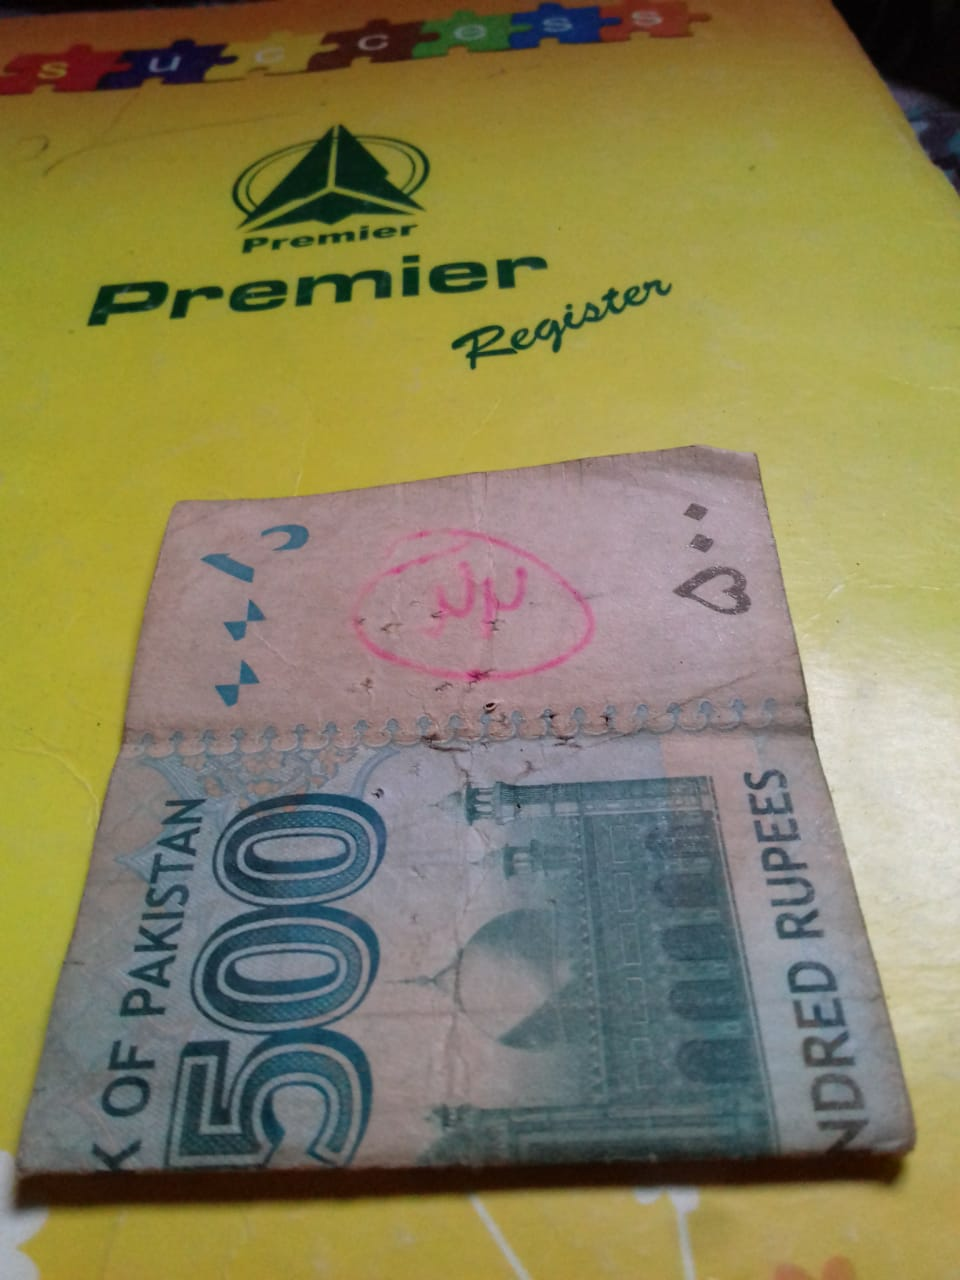500 rupee: (69, 474, 921, 1215)
